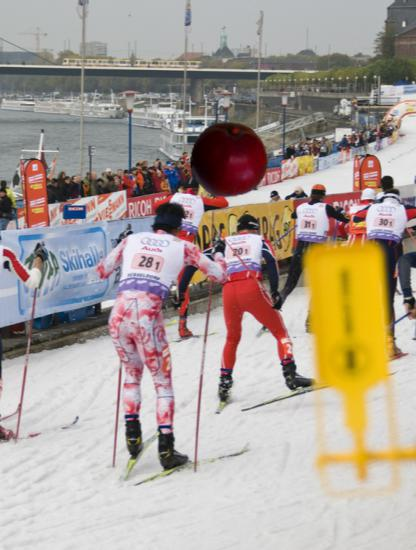Mango: (190, 120, 269, 199)
